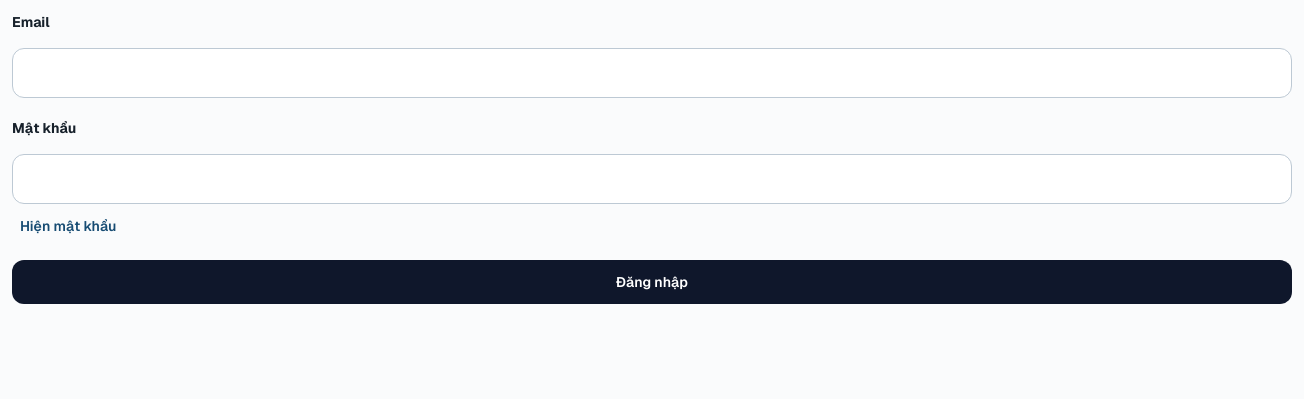
Scenario: staff admin authentication › shows a friendly network error
This screenshot has width=1304, height=399.
Type "admin@homelab.local" into the field labelled "Email" at (652, 73), box [12,48,1292,98]
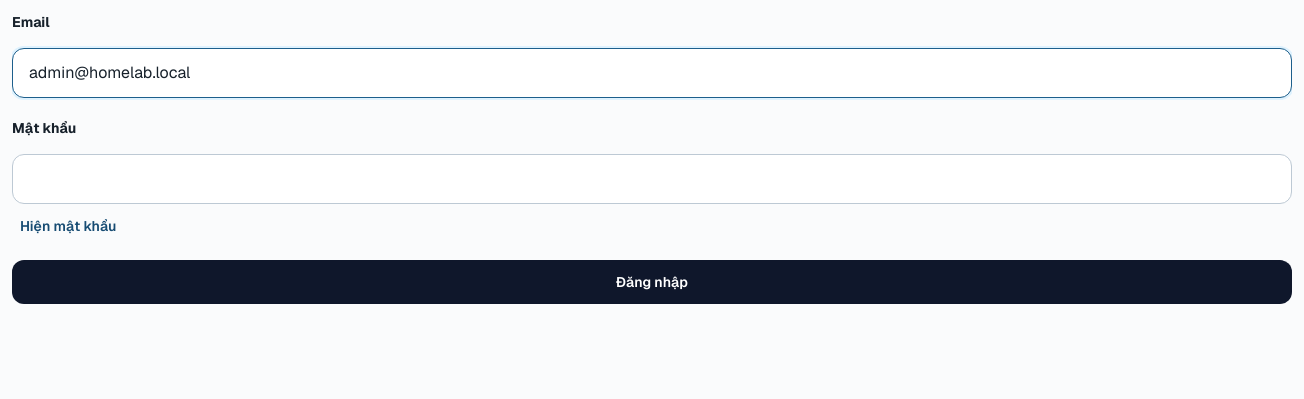
Type "Synthetic1234" into the password field labelled "Mật khẩu" at (652, 179), box [12,154,1292,204]
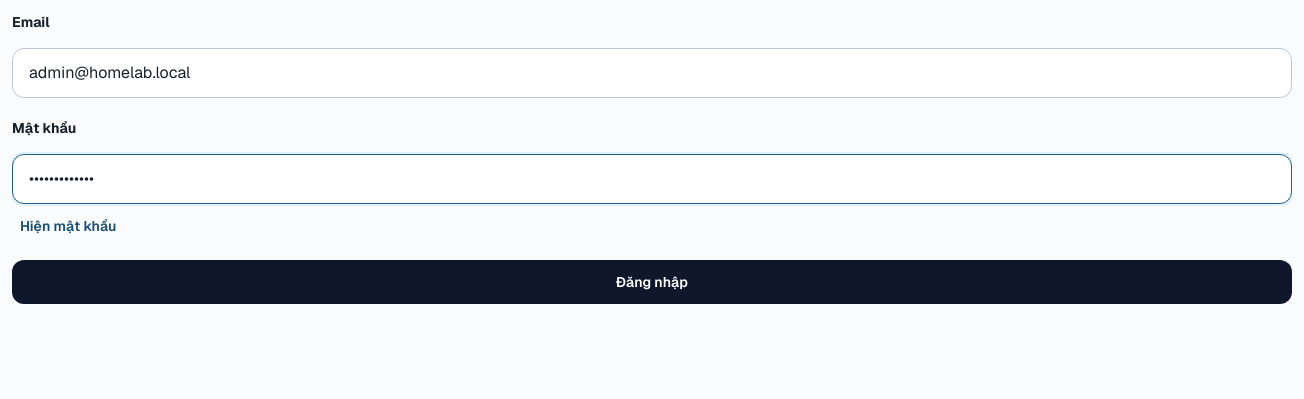
Click the button "Đăng nhập" at (652, 282), box [12,260,1292,304]
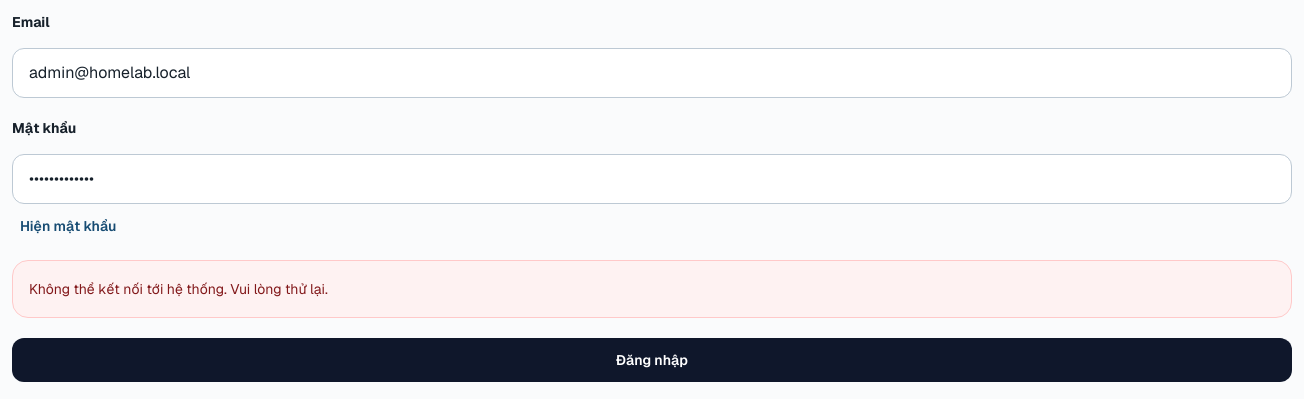
Expected: the message shows "Không thể kết nối tới hệ thống.", [29,280,328,298]
